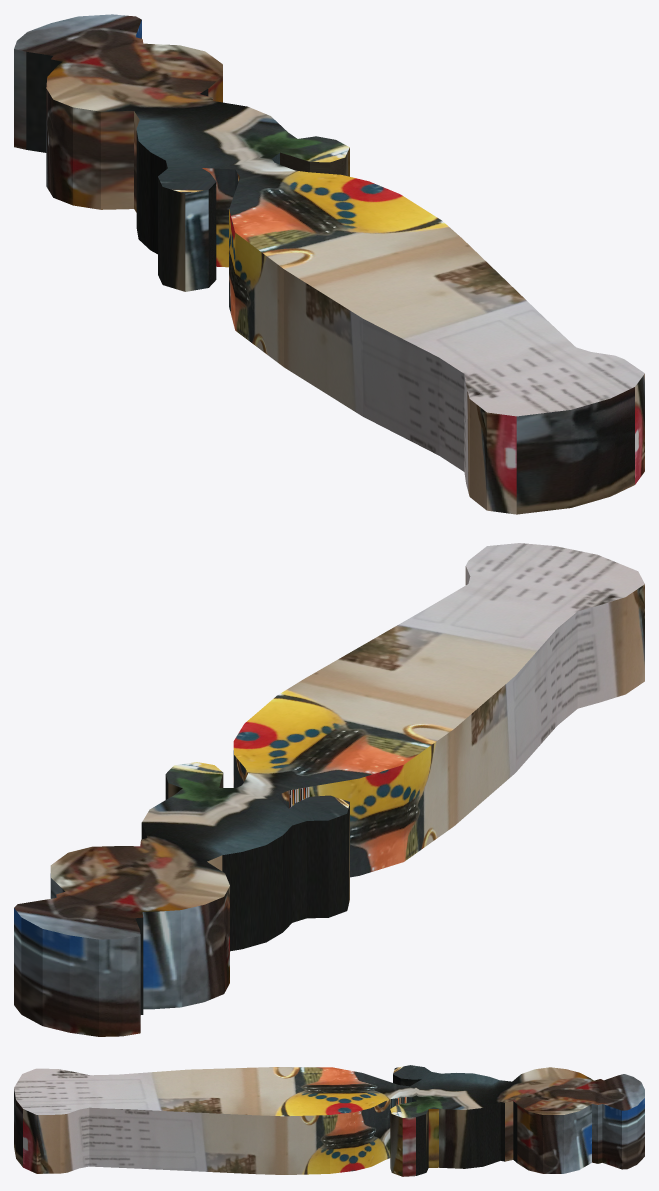
The model's file is yellow-candlestick-doll.fbx.
The picture shows the model from 3 angles, top to bottom: view 1: azimuth 30°, elevation 25°; view 2: azimuth 150°, elevation 25°; view 3: azimuth 270°, elevation 25°; orthographic projection. The views are drawn at different scales.
Parts seen in each view (by area): view 1: yellow_candlestick_doll; view 2: yellow_candlestick_doll; view 3: yellow_candlestick_doll.
Part boxes in pixels (left/top/right/bottom): yellow_candlestick_doll: left=14, top=14, right=644, bottom=514; yellow_candlestick_doll: left=14, top=543, right=644, bottom=1036; yellow_candlestick_doll: left=14, top=1065, right=644, bottom=1176.
Bounding box in the file's own units: 18.65 × 9.67 × 93.97.
